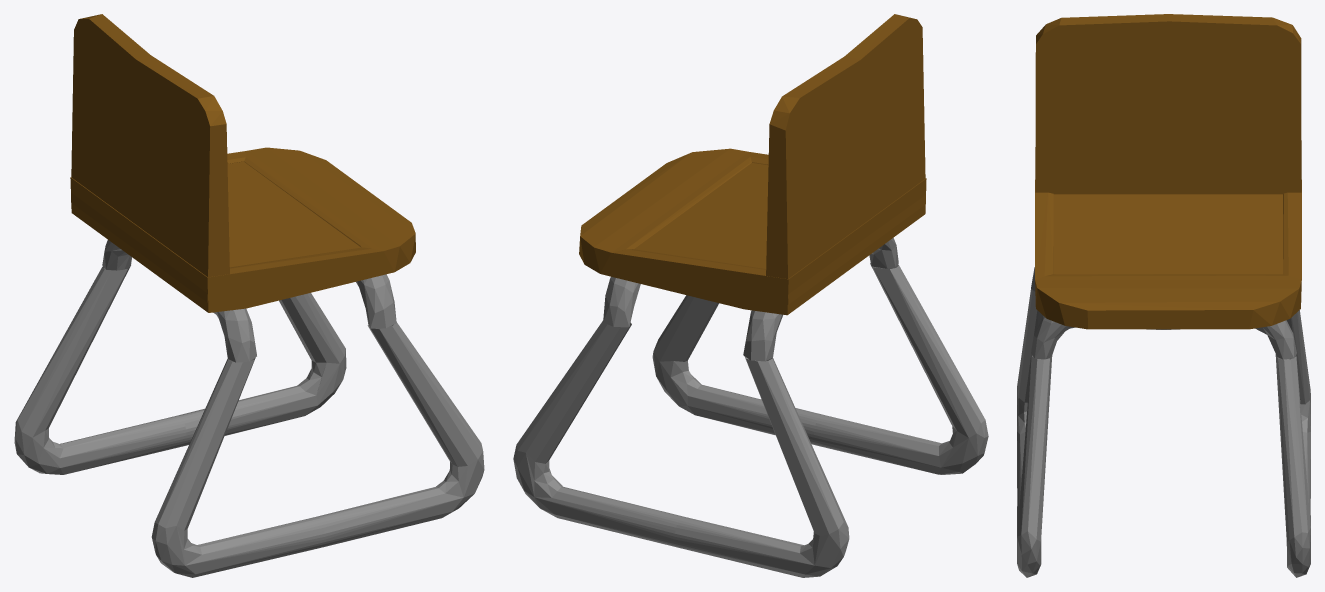
Rendered from Stuhl.fbx.
3 views of the same model, side by side, from view 1: azimuth 30°, elevation 25°; view 2: azimuth 150°, elevation 25°; view 3: azimuth 270°, elevation 25° (orthographic). The views are drawn at different scales.
Visible parts, largest first — view 1: Stuhl_LOD0; view 2: Stuhl_LOD0; view 3: Stuhl_LOD0.
Part boxes in pixels (x1,y1,x2,y2): Stuhl_LOD0: (14,14,484,577); Stuhl_LOD0: (513,14,988,577); Stuhl_LOD0: (1017,14,1310,577).
Size of what is drawn, in the model's own units: 0.7153 by 0.9532 by 0.5638.
